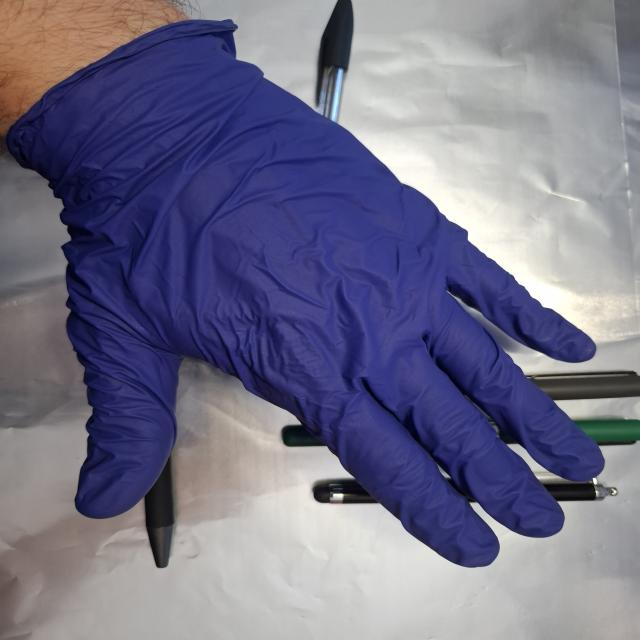glove_on: (35, 28, 610, 572)
